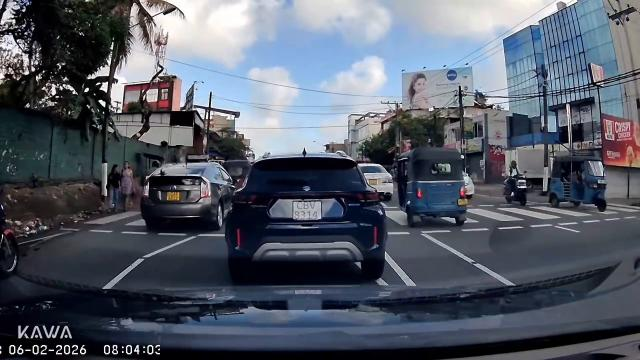illegal overtaking: (398, 145, 471, 234)
number plate: (452, 197, 470, 208)
